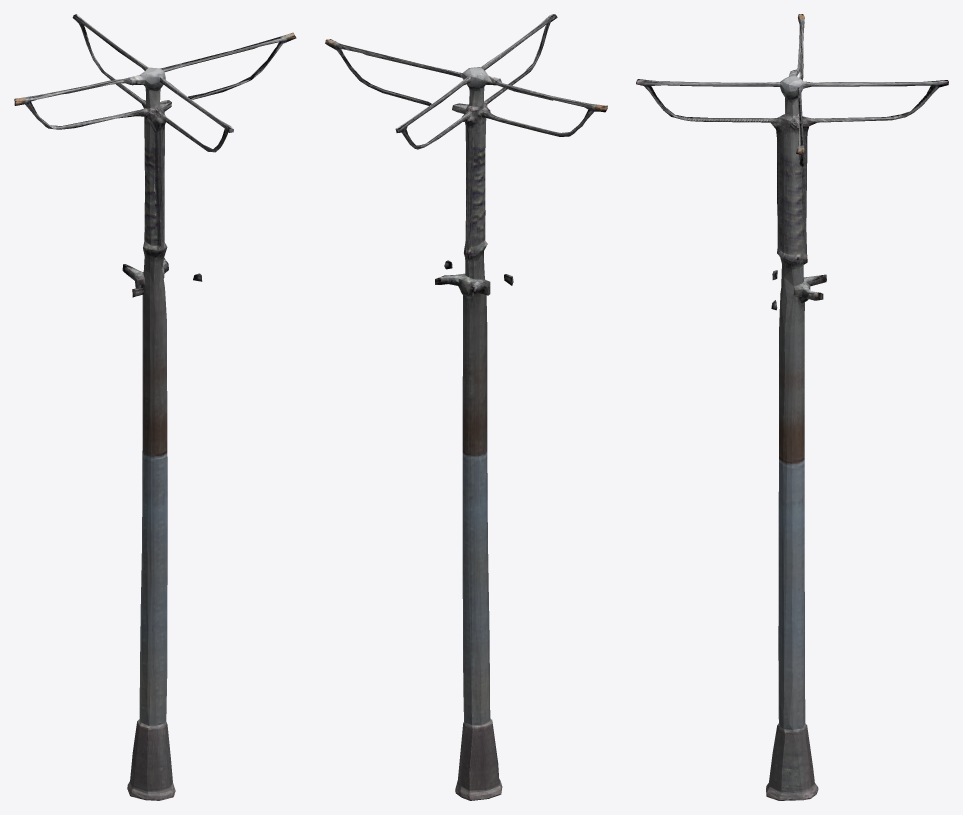
File: utility_pole.glb
3 views of the same model, side by side, from view 1: azimuth 30°, elevation 25°; view 2: azimuth 150°, elevation 25°; view 3: azimuth 270°, elevation 25° (orthographic).
Parts seen in each view (by area): view 1: world; view 2: world; view 3: world.
Boxes of the visible parts, x1,y1,x2,y2 form: world: [14, 14, 296, 800]; world: [325, 14, 607, 800]; world: [636, 14, 948, 800].
Bounding box in the file's own units: 0.408 × 1 × 0.3969.
1 material, 1 textured.
